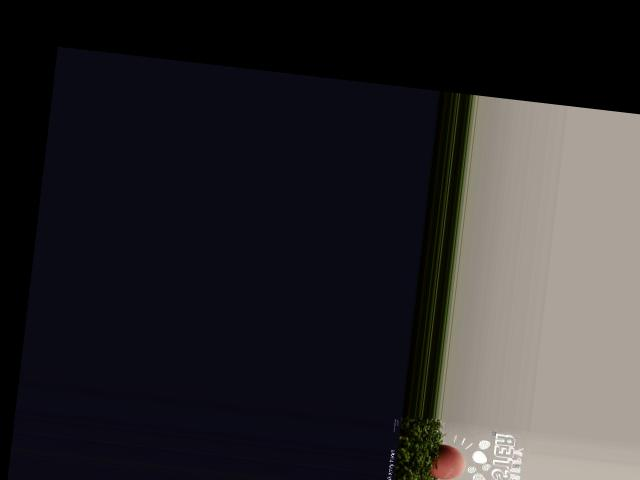egg: (429, 442, 467, 480)
